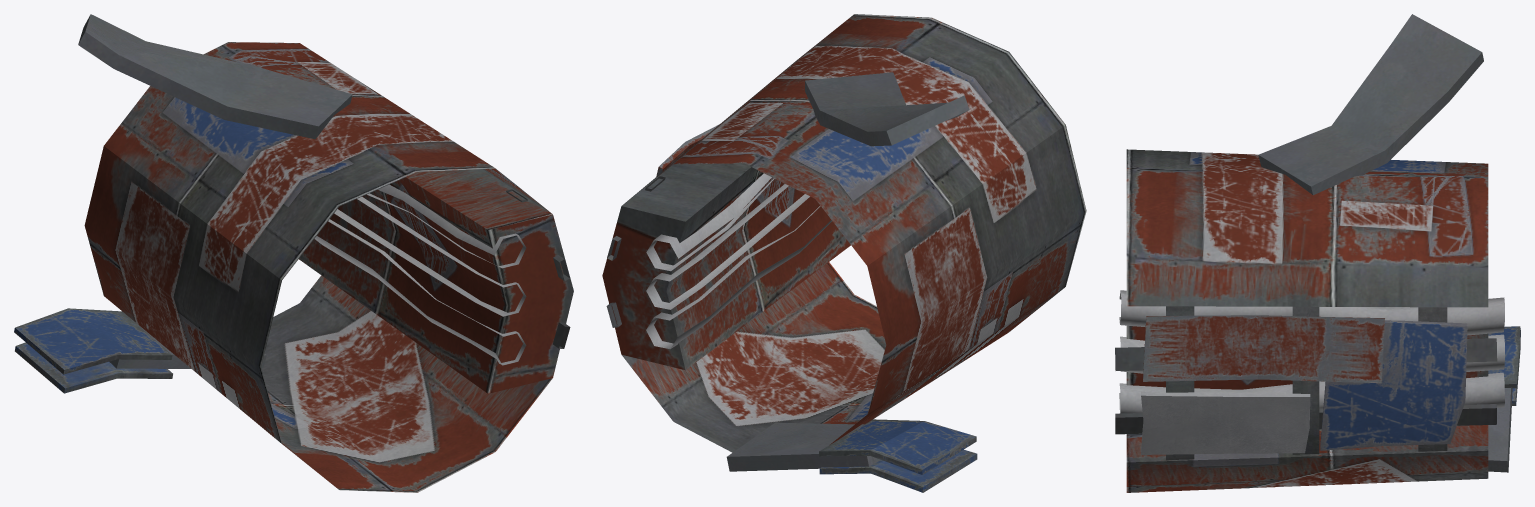
Rendered from HCP4.fbx.
The picture shows the model from 3 angles, left to right: view 1: azimuth 30°, elevation 25°; view 2: azimuth 150°, elevation 25°; view 3: azimuth 270°, elevation 25°; orthographic projection. The views are drawn at different scales.
Parts seen in each view (by area): view 1: fourD; view 2: fourD; view 3: fourD.
Part boxes in pixels (x1=…): fourD: x1=14, y1=14, x2=573, y2=492; fourD: x1=602, y1=14, x2=1086, y2=492; fourD: x1=1115, y1=14, x2=1520, y2=492.
Bounding box in the file's own units: 3746 × 3964 × 3854.
Materials: 1 (1 with a texture image).
